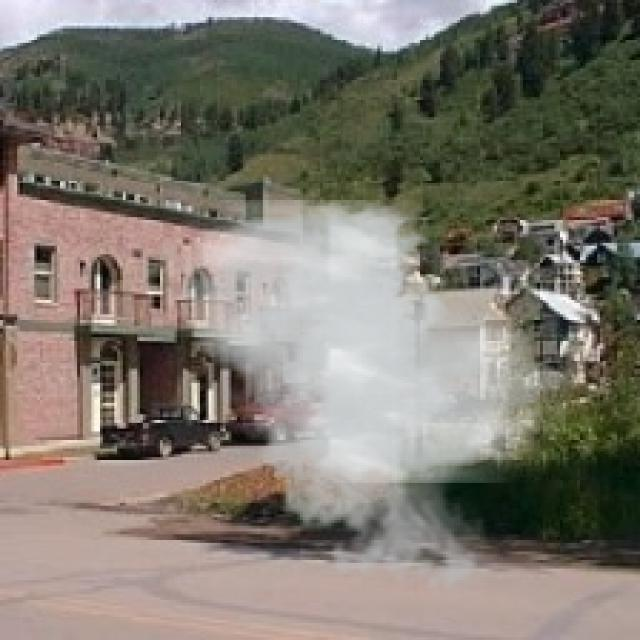smoke: (160, 200, 566, 603)
